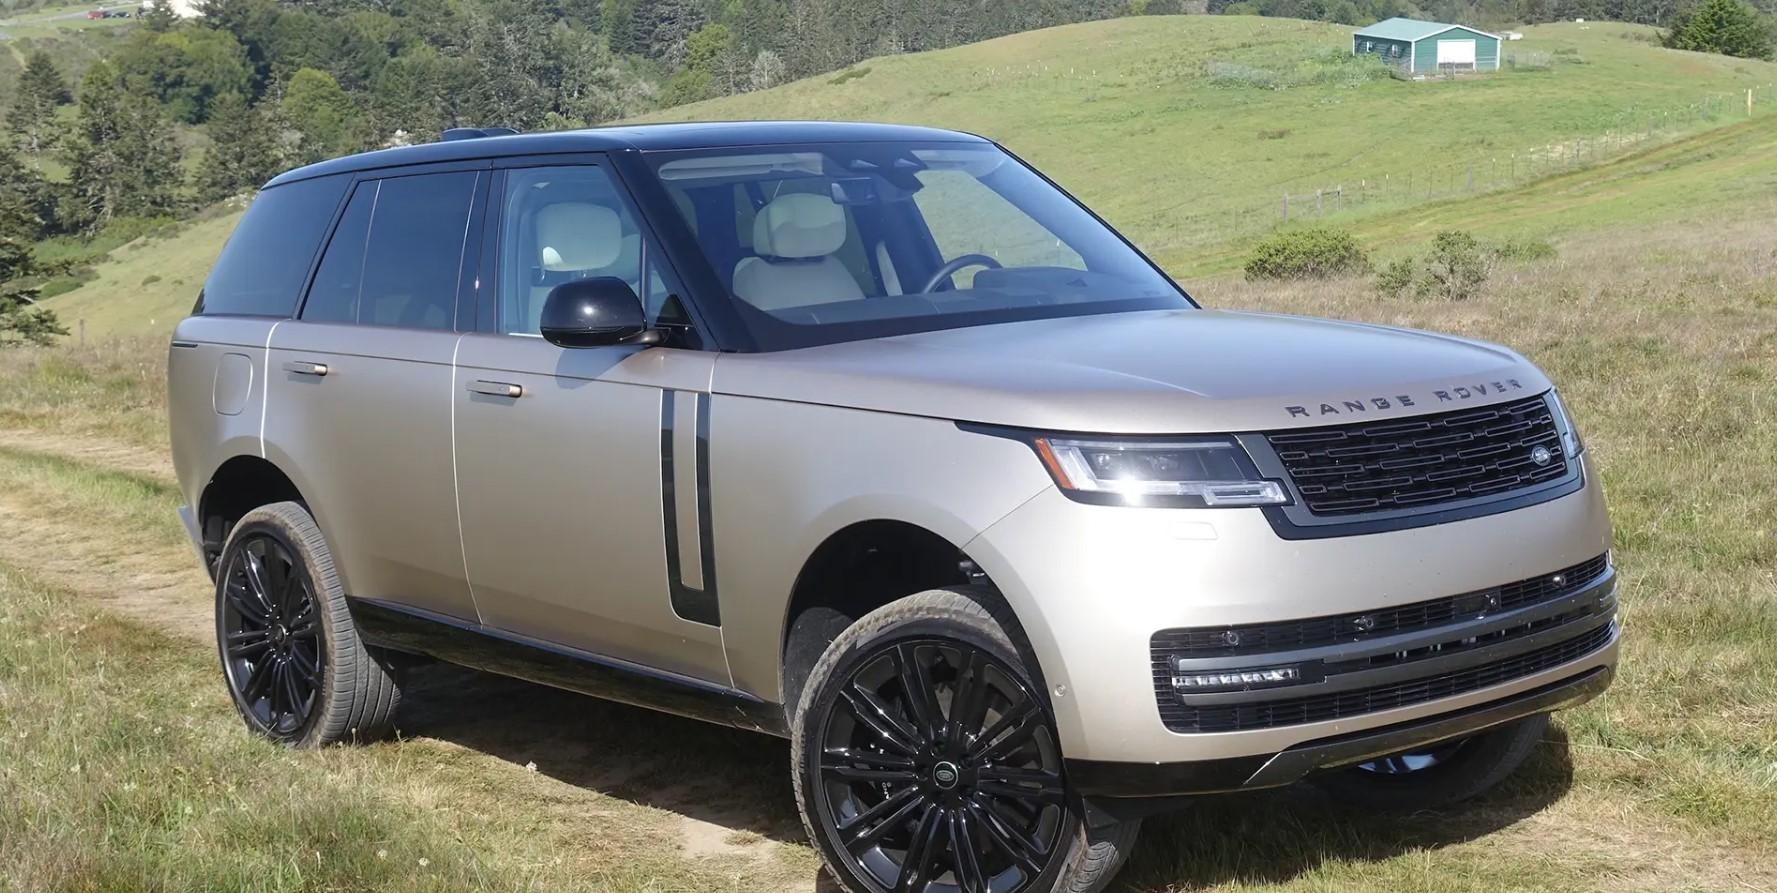range rover: (1280, 370, 1532, 436)
